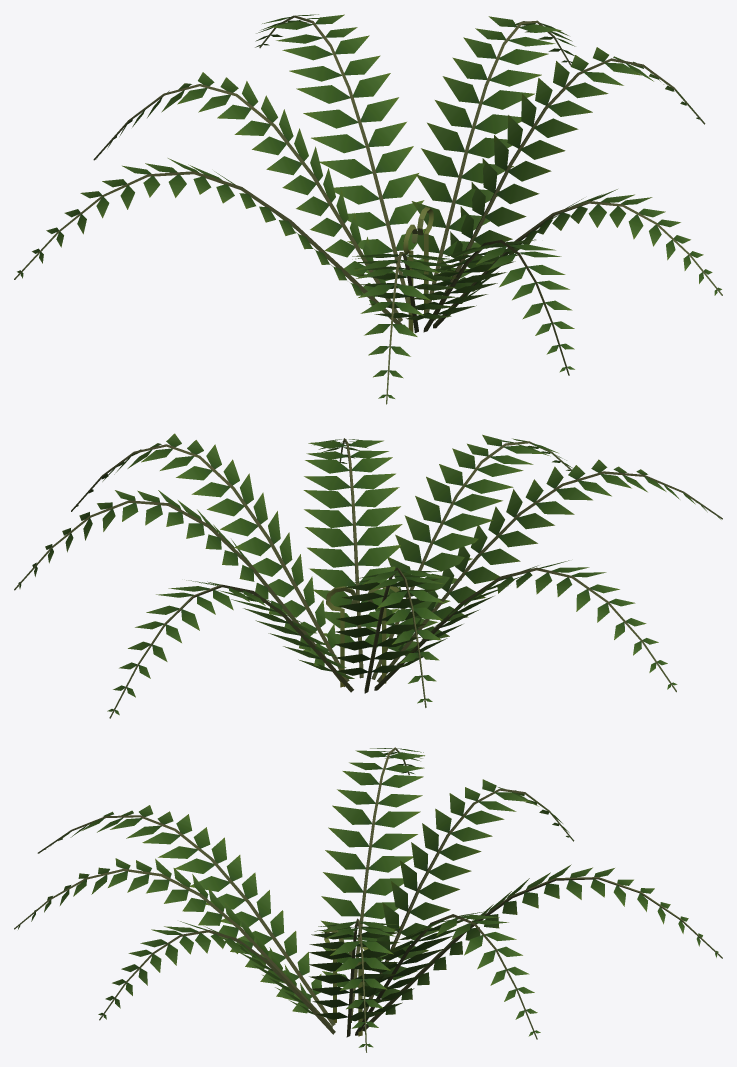
File: fern-sword.lod0.glb
The picture shows the model from 3 angles, top to bottom: view 1: azimuth 30°, elevation 25°; view 2: azimuth 150°, elevation 25°; view 3: azimuth 270°, elevation 25°; orthographic projection. The views are drawn at different scales.
Visible parts, largest first — view 1: fern_sword_mesh; view 2: fern_sword_mesh; view 3: fern_sword_mesh.
Part boxes in pixels (left/top/right/bottom): fern_sword_mesh: left=14, top=14, right=722, bottom=404; fern_sword_mesh: left=14, top=433, right=722, bottom=718; fern_sword_mesh: left=14, top=747, right=722, bottom=1052.
Size of the model in its own units: 1.72 by 0.5233 by 1.79.
1 material, 1 textured.
